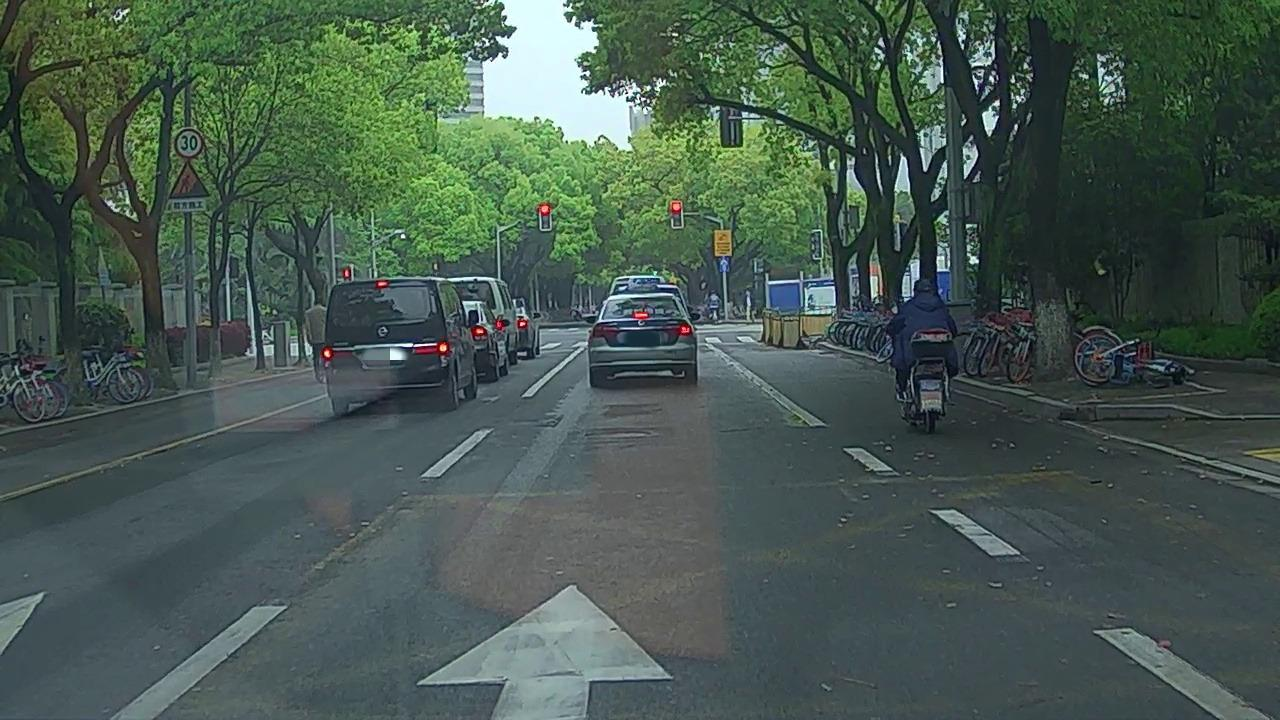traffic_light: (671, 201, 683, 227), (541, 204, 550, 231)
